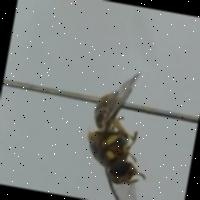Oriental-fruit-fly: (65, 65, 163, 200)
